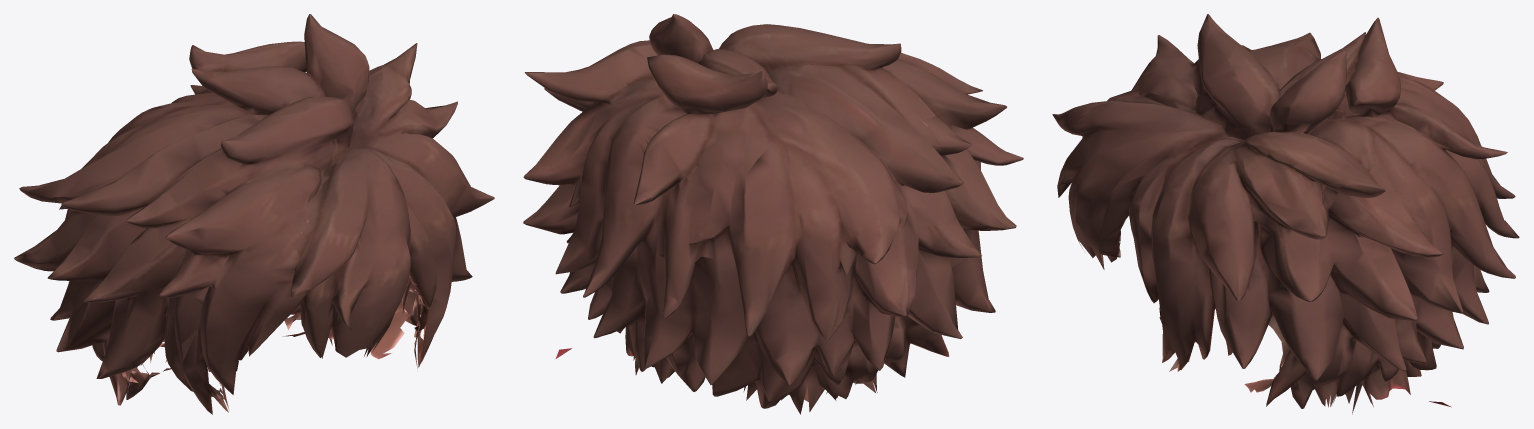
The model's file is hair_swept.glb.
3 renders of one model, left to right at view 1: azimuth 30°, elevation 25°; view 2: azimuth 150°, elevation 25°; view 3: azimuth 270°, elevation 25°, orthographic. The views are drawn at different scales.
Visible parts, largest first — view 1: Hair_Swept; view 2: Hair_Swept; view 3: Hair_Swept.
Boxes of the visible parts, <box> form: Hair_Swept: <box>14,14,494,414</box>; Hair_Swept: <box>523,14,1023,414</box>; Hair_Swept: <box>1052,14,1519,414</box>.
Size of the model in its own units: 1.04 by 0.8101 by 0.976.
Materials: 1 (1 with a texture image).
